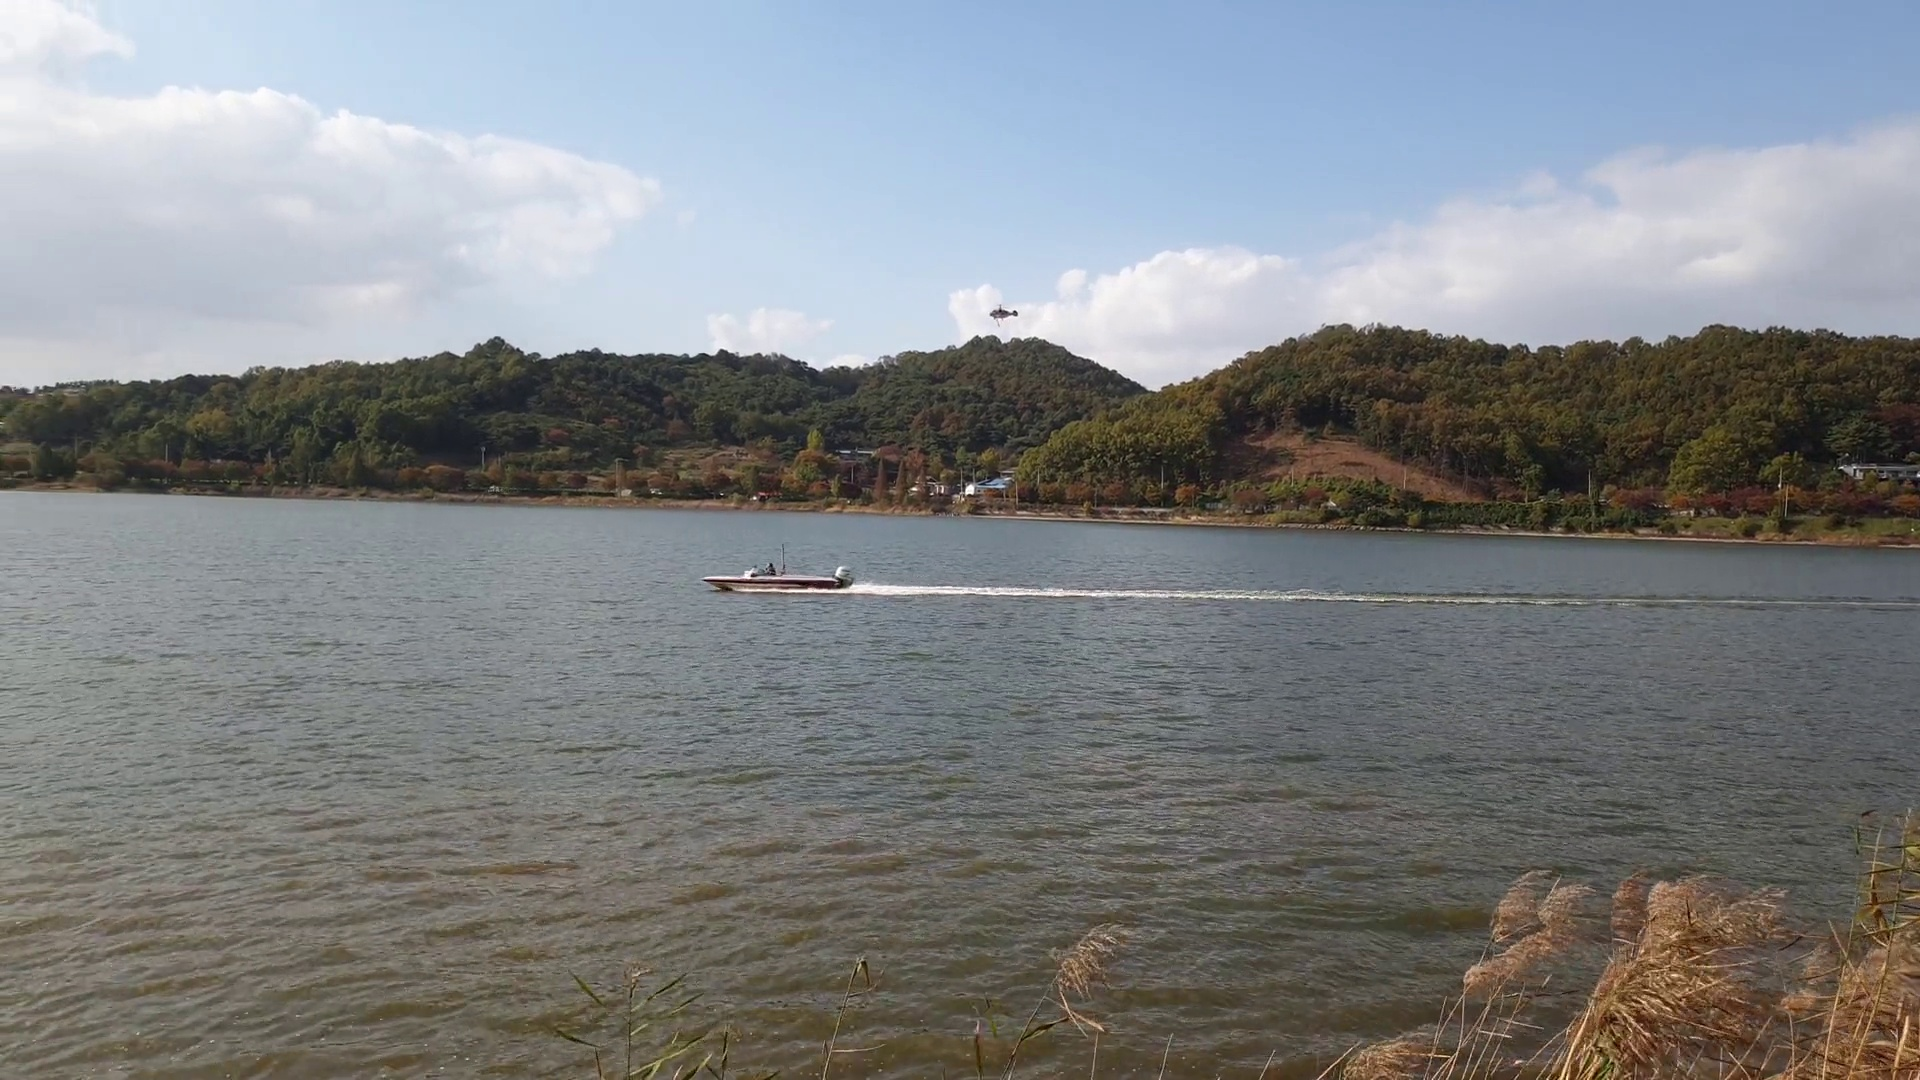heli: (988, 305, 1017, 320)
